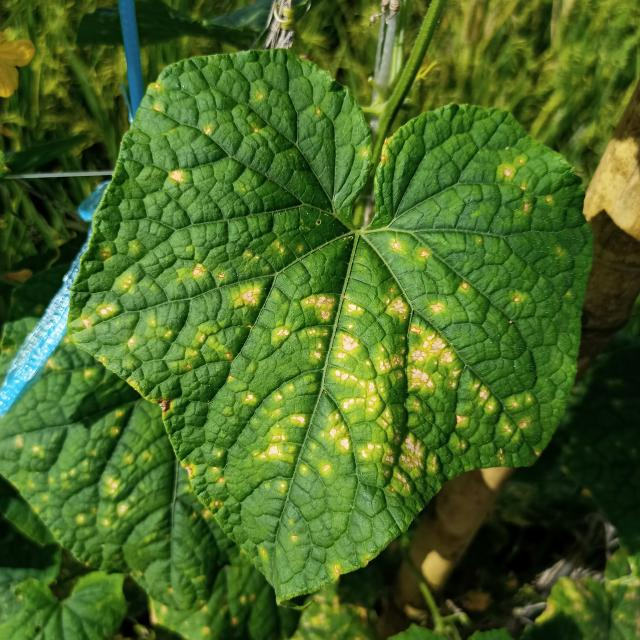disease_cucumber: (78, 84, 563, 514)
